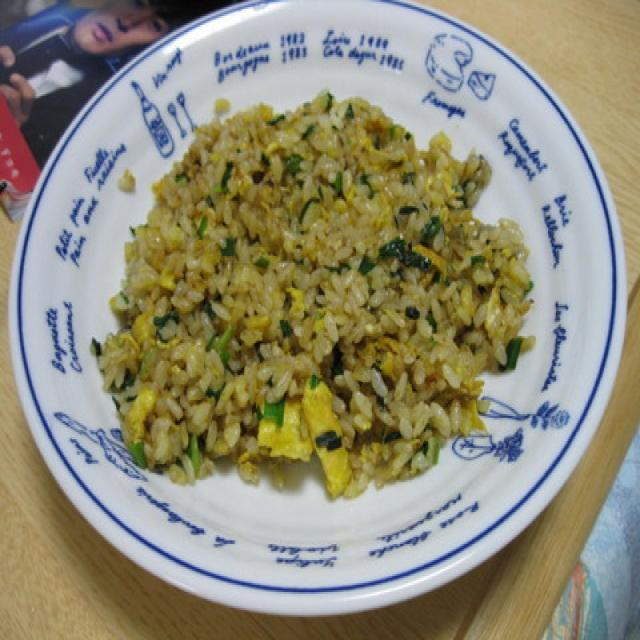米饭主食: (9, 0, 628, 610)
